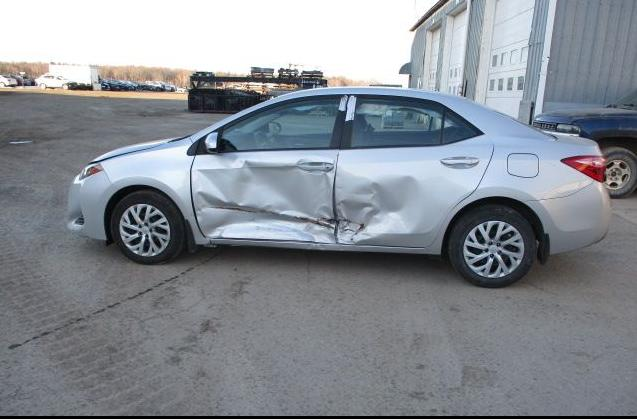Back-bumper: (523, 180, 610, 255)
Back-door: (335, 94, 494, 247)
Back-wheel: (448, 205, 536, 287)
Back-window: (493, 110, 555, 139), (443, 110, 478, 143)
Back-windshield: (351, 99, 443, 146)
Fender: (98, 137, 209, 244)
Front-bumper: (67, 170, 116, 240)
Front-door: (191, 94, 349, 244)
Front-wheel: (111, 192, 184, 265)
Front-window: (220, 98, 340, 151)
Headlight: (70, 162, 103, 184)
Hood: (90, 137, 183, 163)
Mirror: (205, 133, 218, 148)
Quarter-panel: (431, 137, 603, 247)
Rocker-panel: (209, 238, 442, 255)
Roof: (266, 86, 479, 104)
Tail-light: (559, 155, 607, 183)
Trunk: (543, 131, 590, 140)
Windshield: (170, 109, 246, 142)
